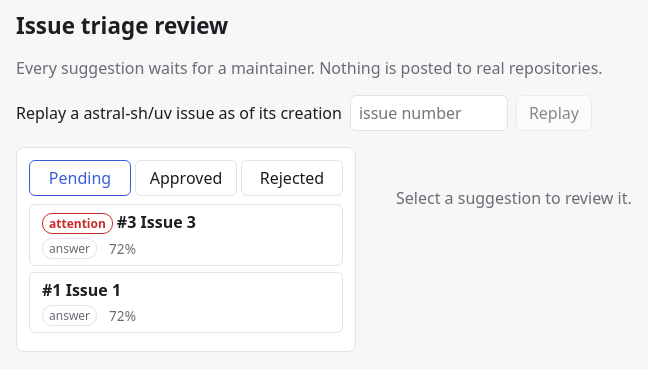
Test: review queue › lists pending runs with attention first and shows an empty state per tab
This screenshot has width=648, height=369.
Expected: the button "attention #3 Issue 3 answer 72%" is shown, [29,204,343,266]
Expected: the button "#1 Issue 1 answer 72%" is shown, [29,272,343,333]
Click the tab "Approved".
click(186, 178)  # box [135,160,237,196]
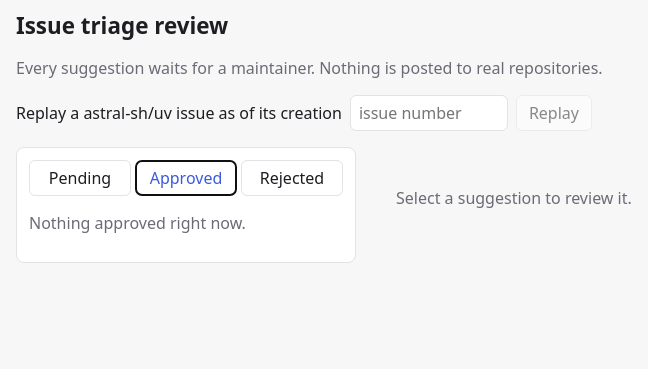
Expected: the text "Nothing approved right now." is shown, [29,212,246,234]
